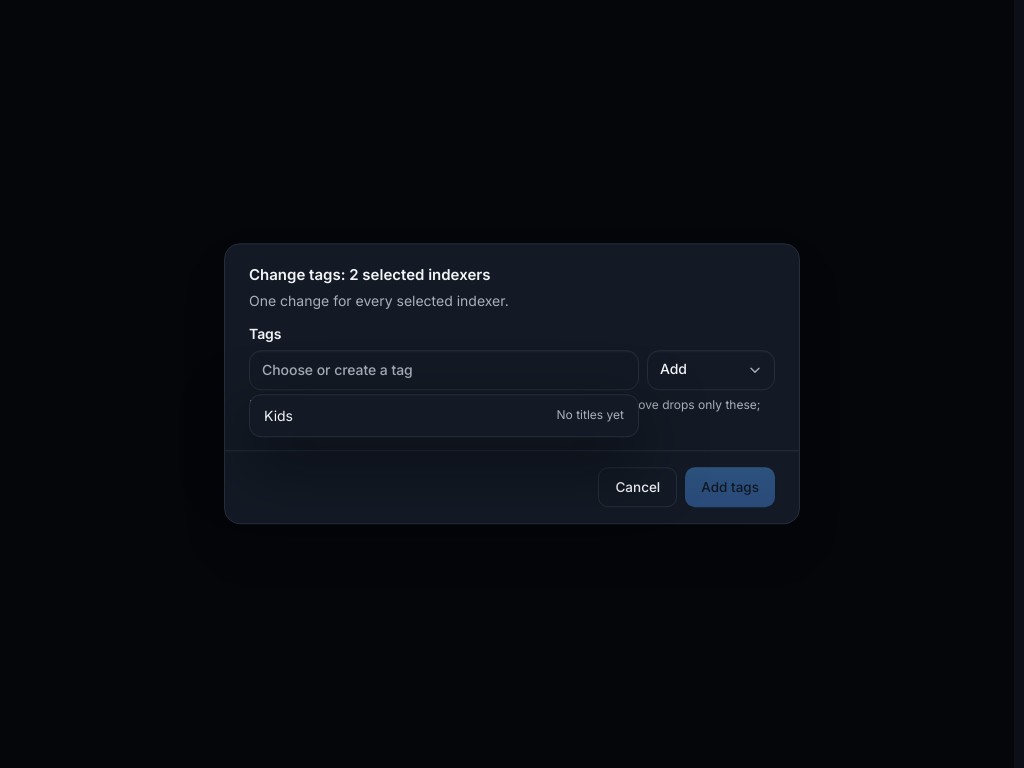
Test: ConnectionTagsDialog (#1044) › needs a tag to add or remove, but Replace with none clears them
Expected: the button "Add tags" is disabled, [685,468,775,508]
Select "Replace" in the dropdown named "How to apply the tags" at (711, 370), box [647,350,775,390]
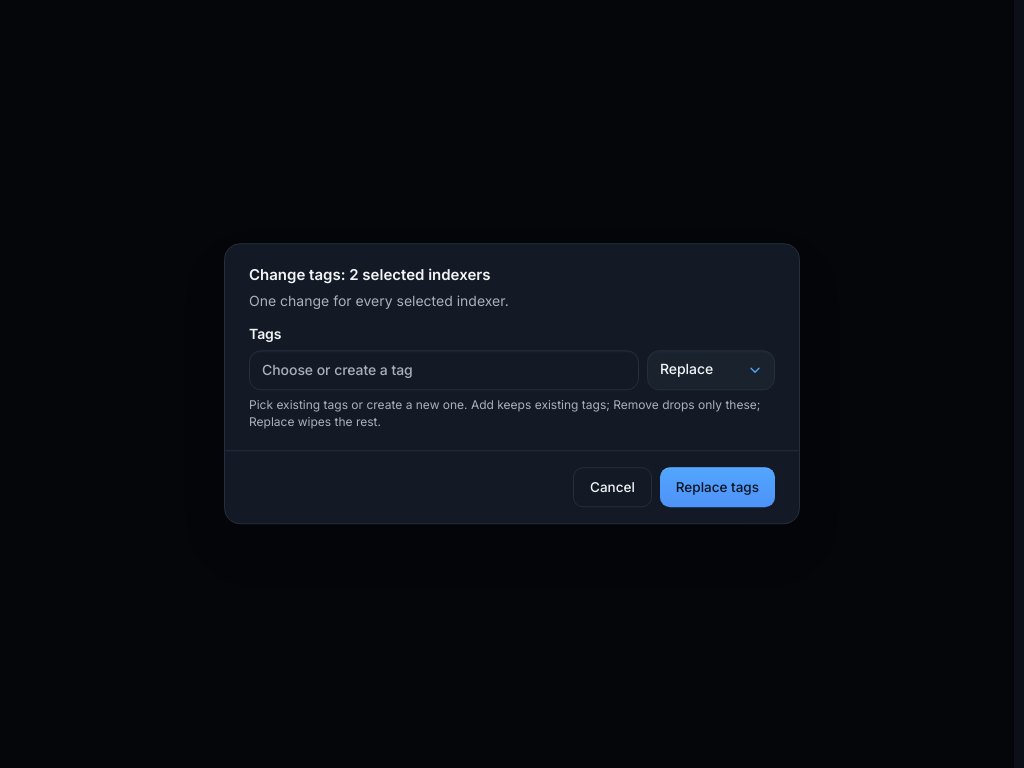
Now the button "Replace tags" is enabled, box [660,468,775,508]
